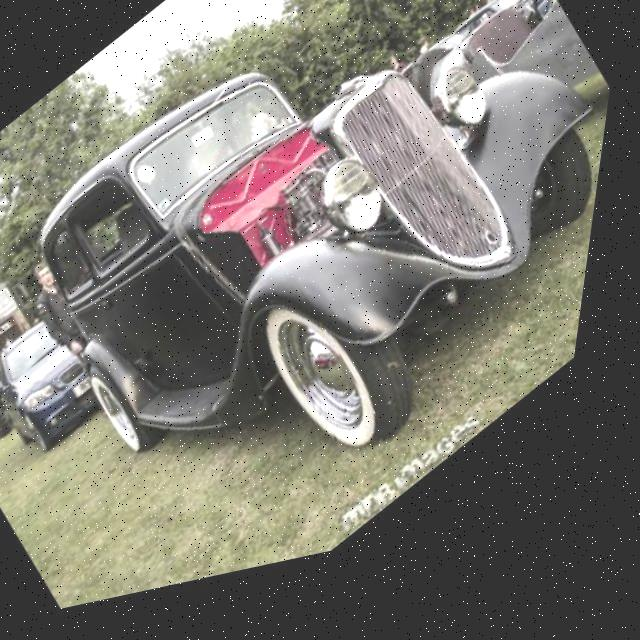license_plate: (83, 379, 108, 405)
